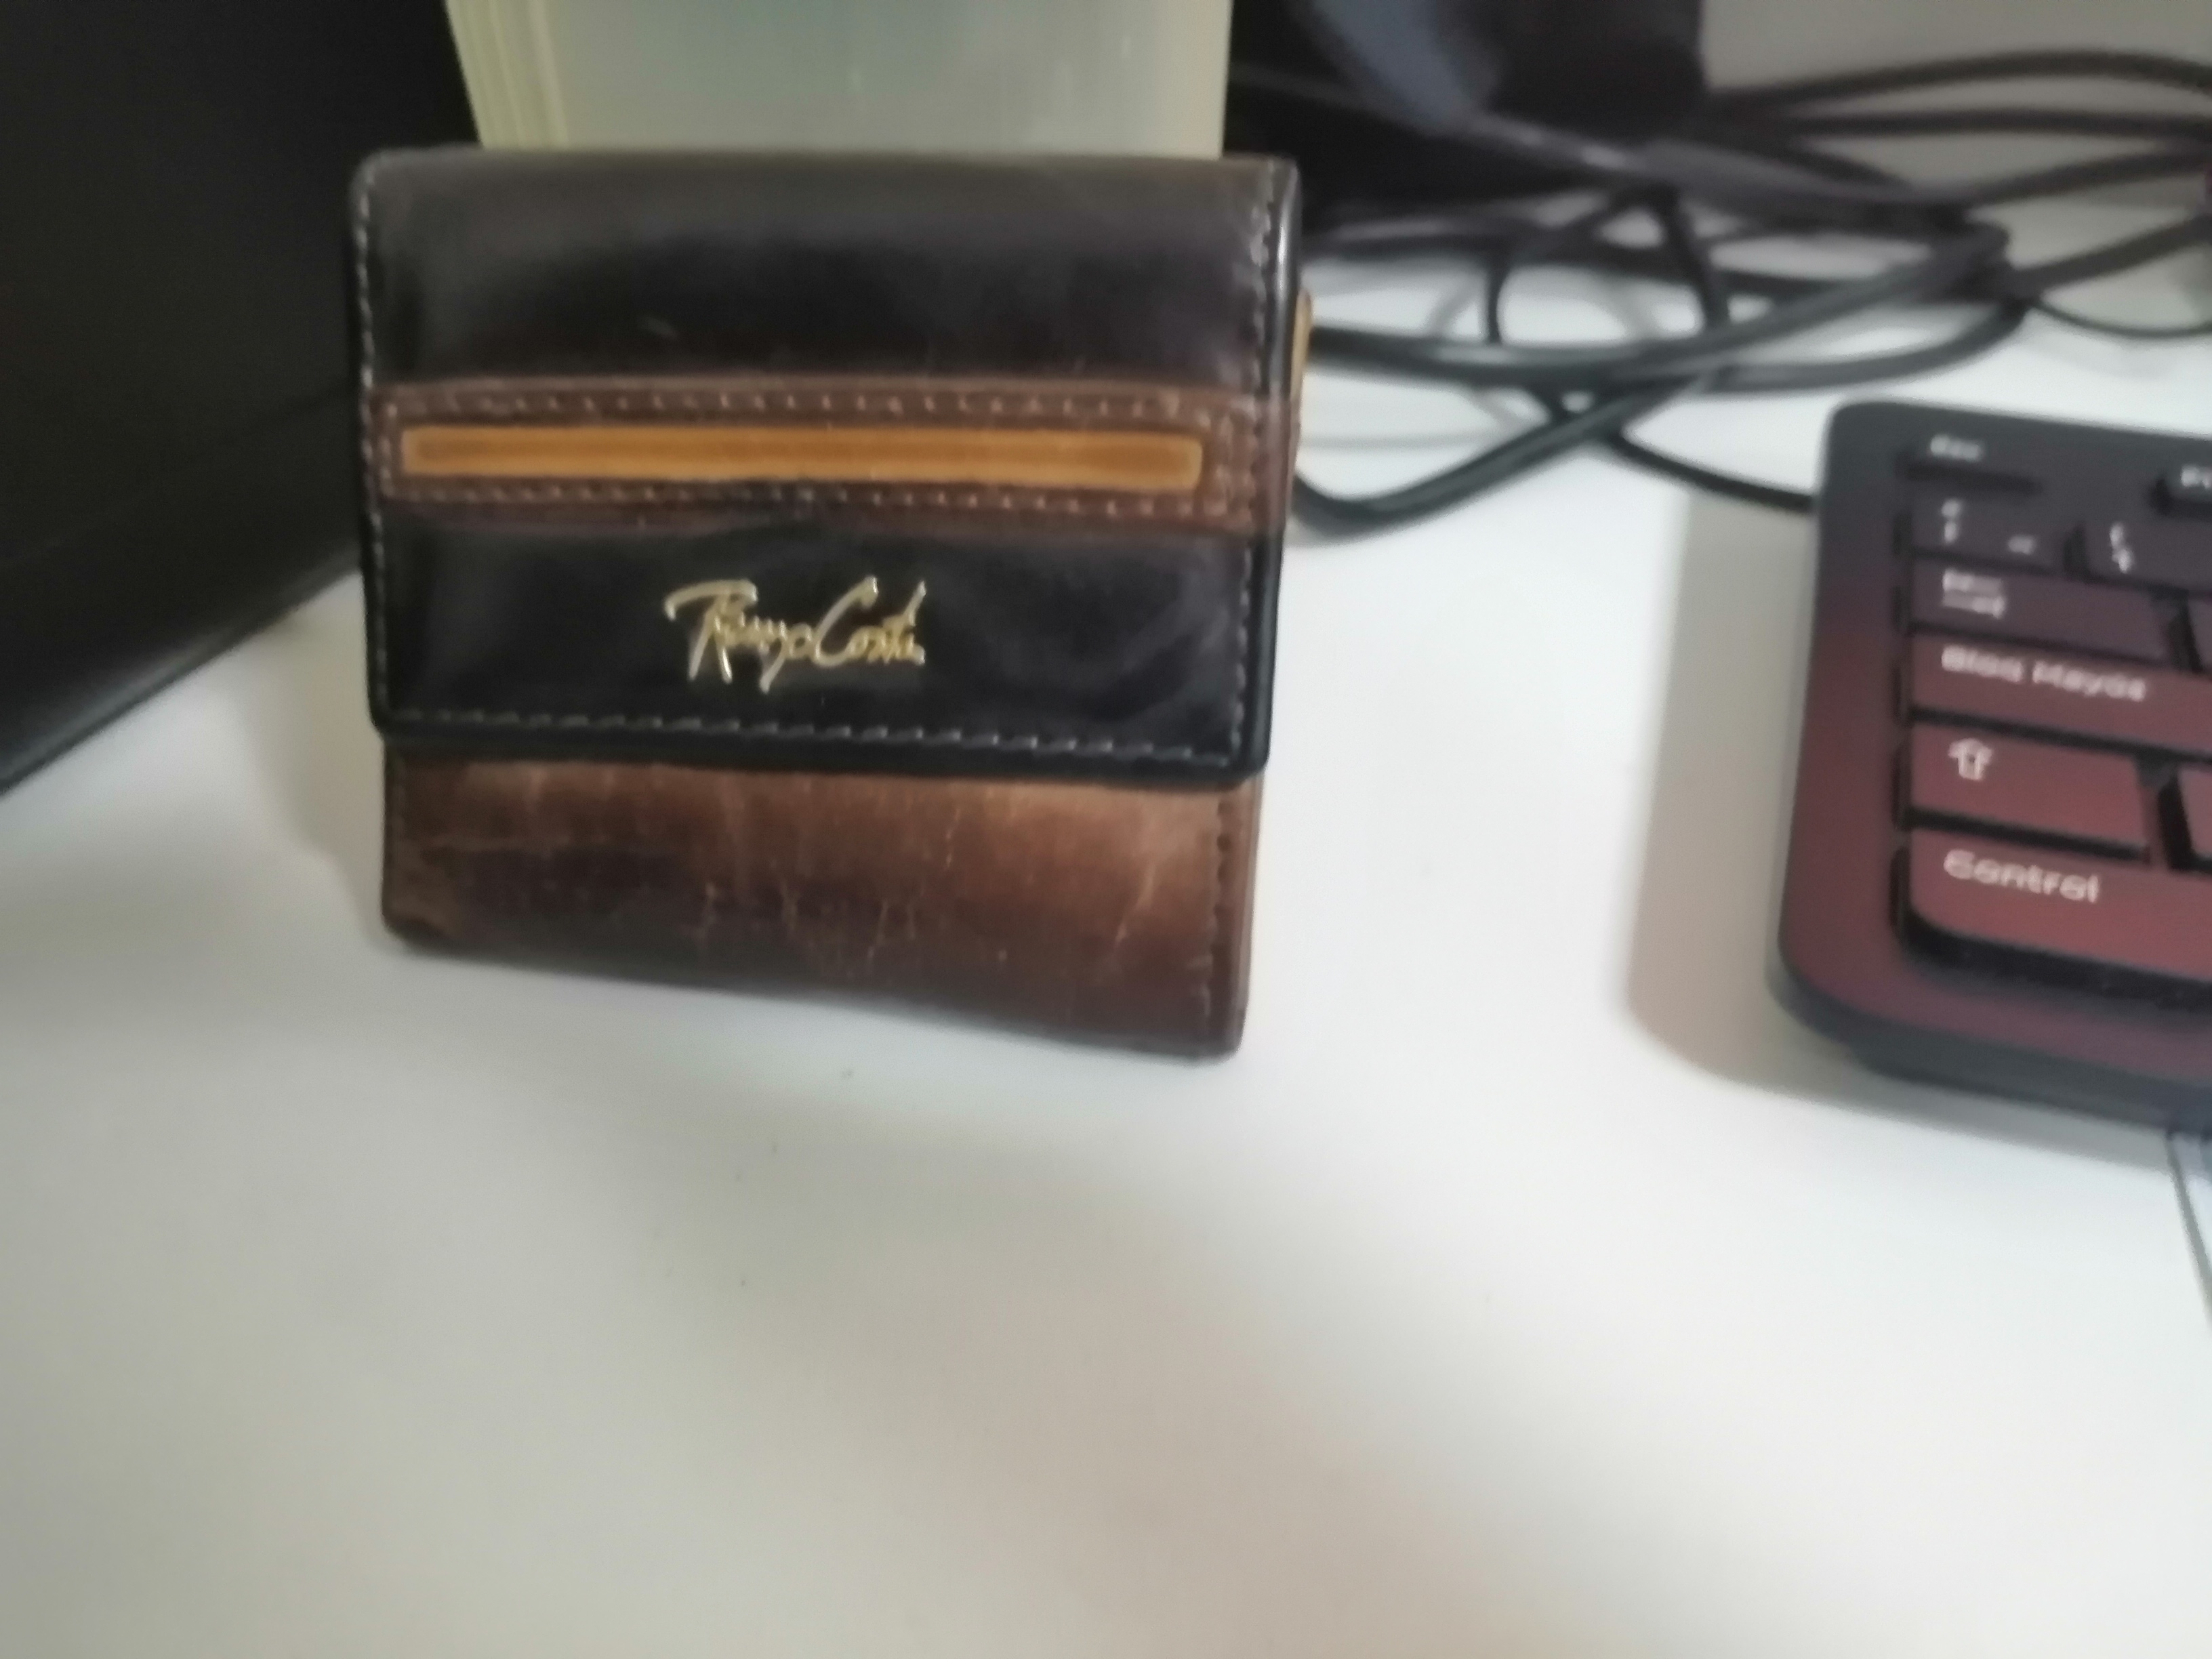monedero: (300, 112, 1352, 1114)
